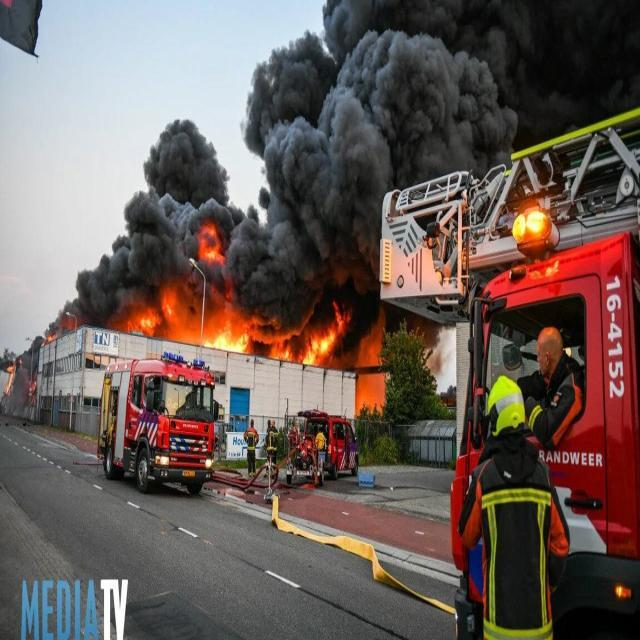Fire: (302, 300, 349, 364), (202, 322, 248, 355), (126, 310, 160, 340), (200, 225, 224, 262), (5, 364, 16, 396), (273, 349, 291, 362), (166, 304, 172, 318), (48, 334, 56, 342)
Smoke: (0, 0, 640, 421)
